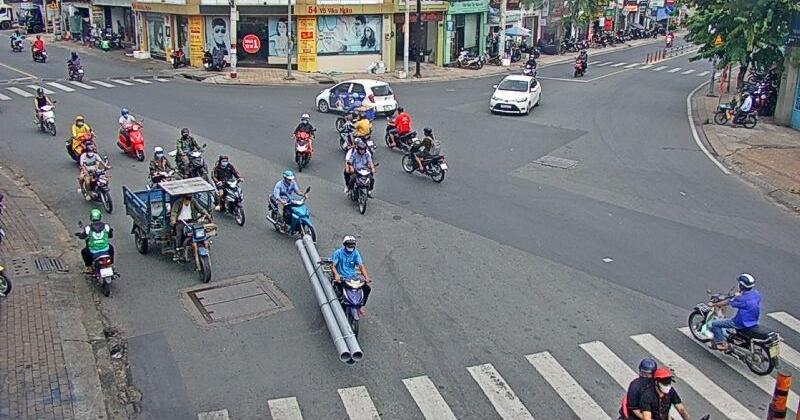xe hoi: (315, 79, 397, 116), (489, 74, 542, 112)
xe may: (688, 272, 781, 376), (332, 235, 371, 339), (75, 209, 118, 297), (267, 169, 316, 241), (401, 126, 448, 183), (343, 138, 375, 215), (78, 145, 113, 214), (211, 154, 245, 223), (175, 126, 209, 180), (117, 107, 145, 161), (384, 106, 417, 149), (292, 113, 315, 172), (34, 86, 56, 136), (148, 146, 176, 183)
